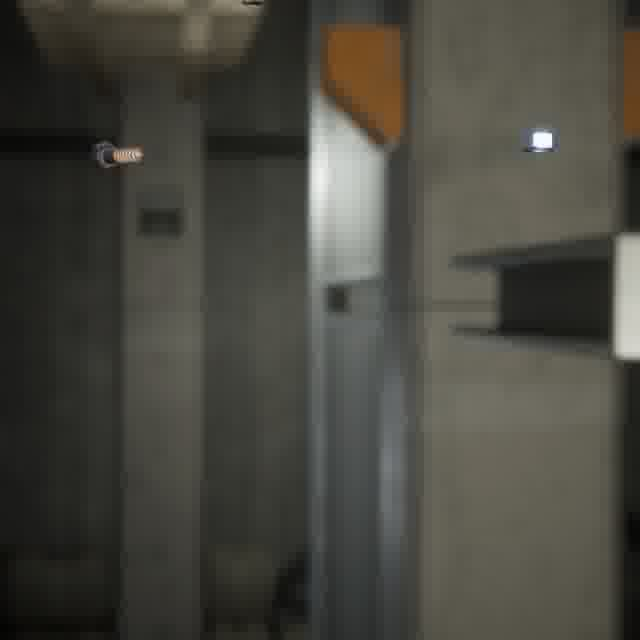bolt: (87, 137, 149, 174)
nut: (516, 127, 561, 157)
